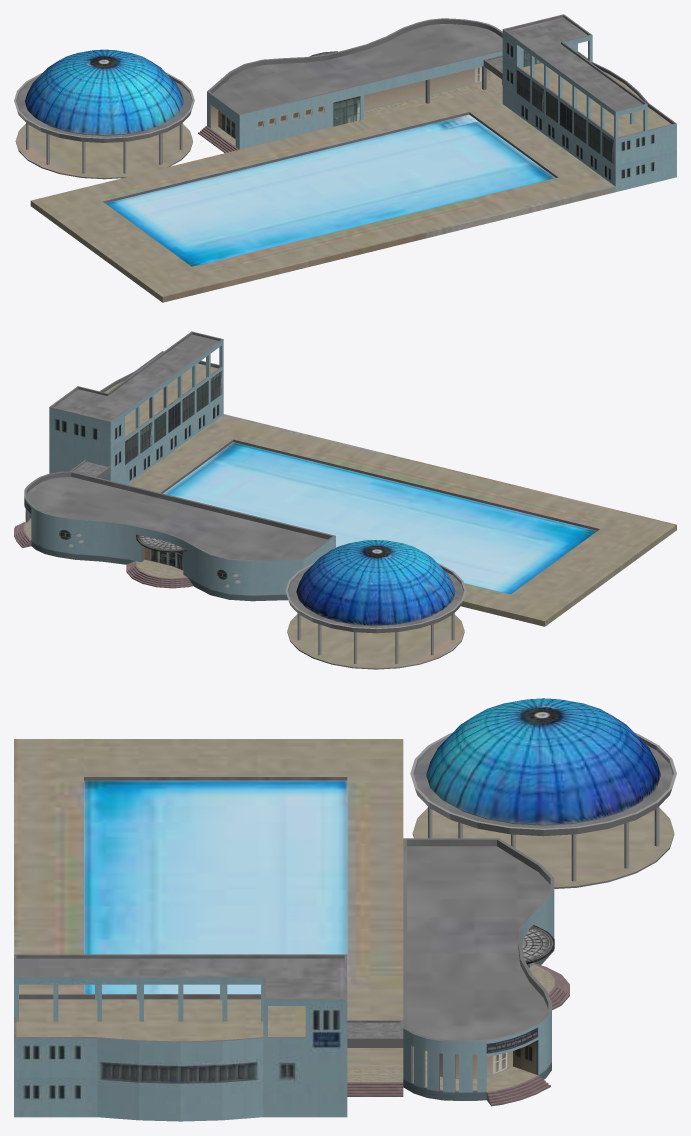
3 renders of one model, top to bottom at view 1: azimuth 30°, elevation 25°; view 2: azimuth 150°, elevation 25°; view 3: azimuth 270°, elevation 25°, orthographic. The views are drawn at different scales.
Parts seen in each view (by area): view 1: HN773_BeBoiThanhXuan; view 2: HN773_BeBoiThanhXuan; view 3: HN773_BeBoiThanhXuan.
Boxes of the visible parts, x1,y1,x2,y2 form: HN773_BeBoiThanhXuan: [14, 14, 676, 302]; HN773_BeBoiThanhXuan: [14, 331, 676, 669]; HN773_BeBoiThanhXuan: [14, 698, 676, 1121].
Bounding box in the file's own units: 73.14 × 10.85 × 54.72.
Materials: 1 (1 with a texture image).
